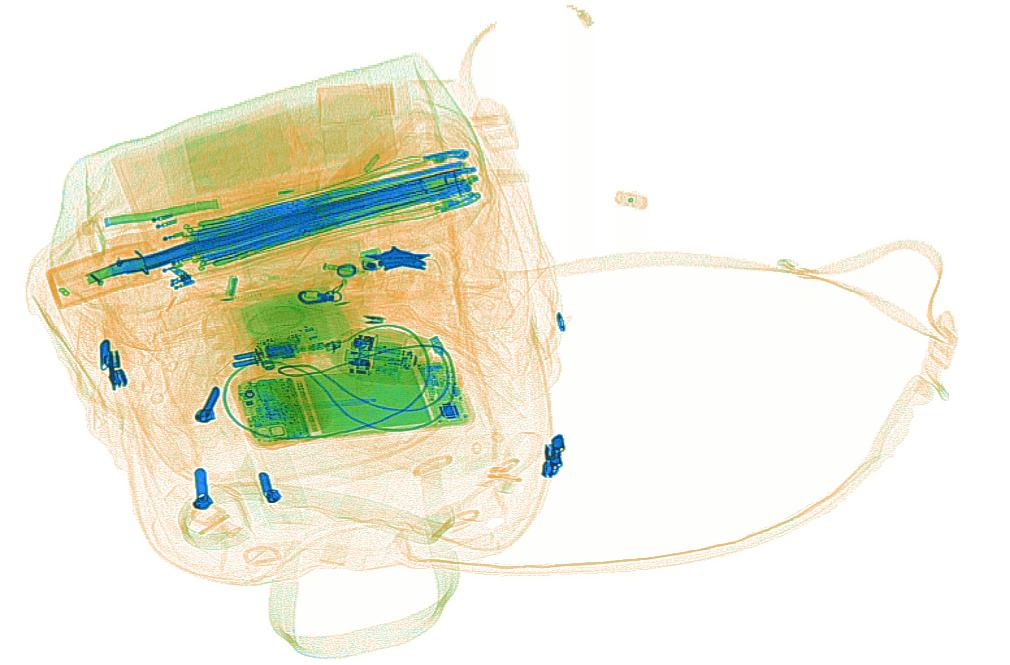plasticBottleWithaNozzle: (313, 114, 422, 218)
